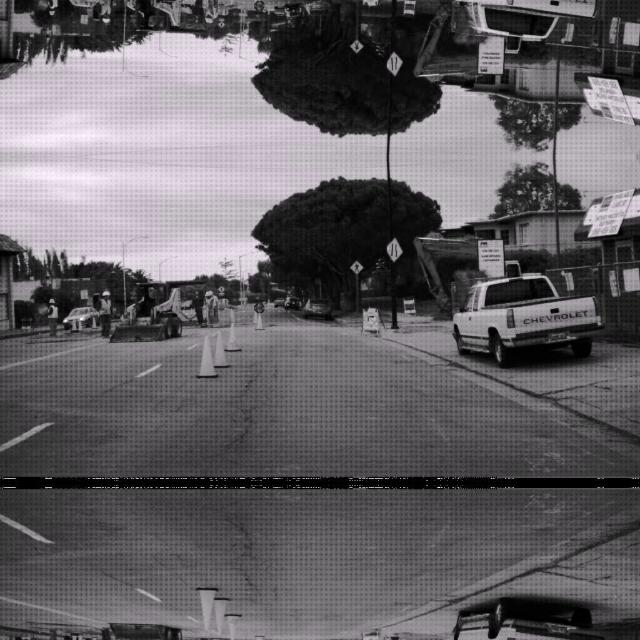pedestrianCrossing: (348, 258, 364, 274), (348, 38, 364, 54)
